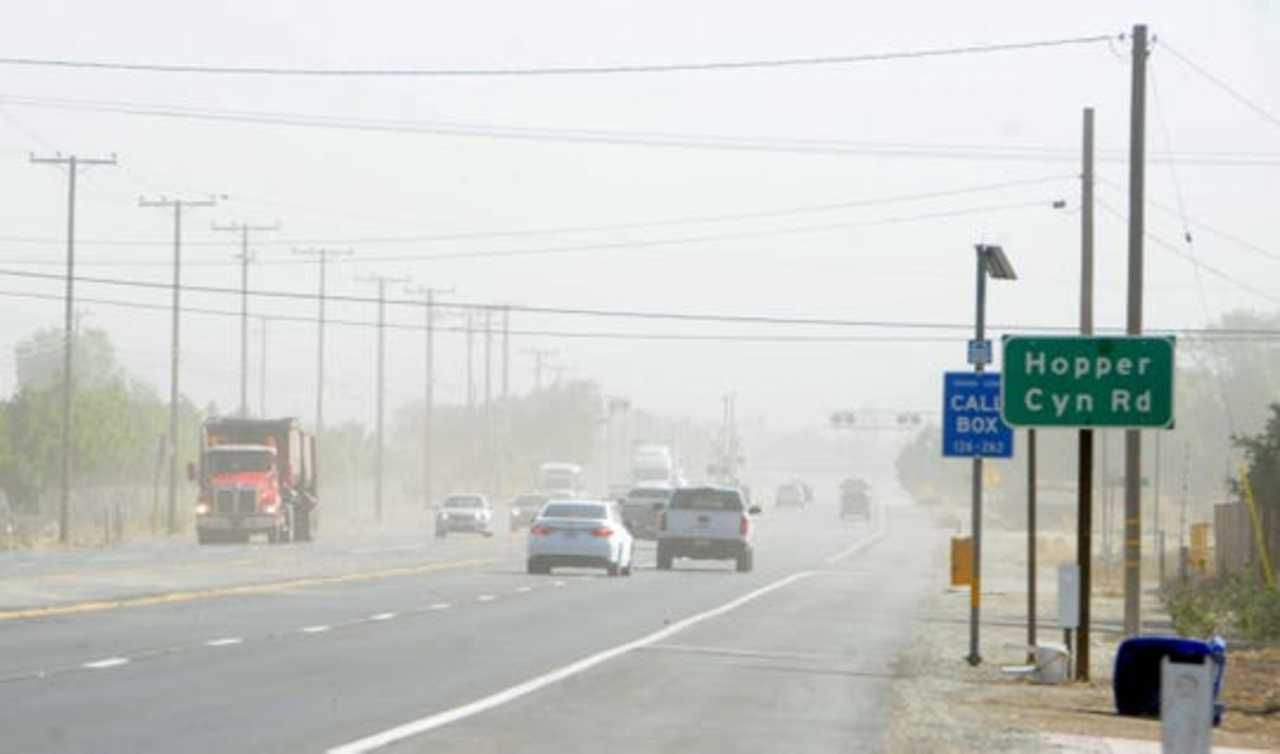car: (653, 485, 754, 572), (526, 503, 636, 577), (432, 493, 494, 537), (620, 488, 667, 542), (507, 496, 547, 531), (773, 484, 807, 511)
truck: (192, 415, 317, 546), (536, 463, 587, 509), (626, 444, 671, 492), (837, 477, 873, 521)
